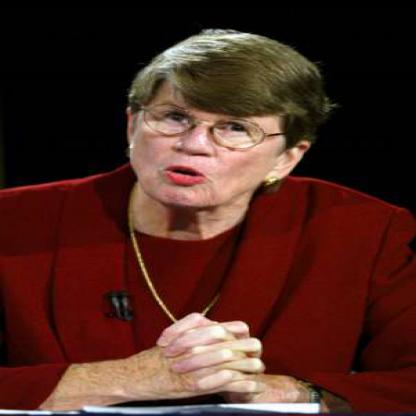face: (135, 38, 298, 211)
